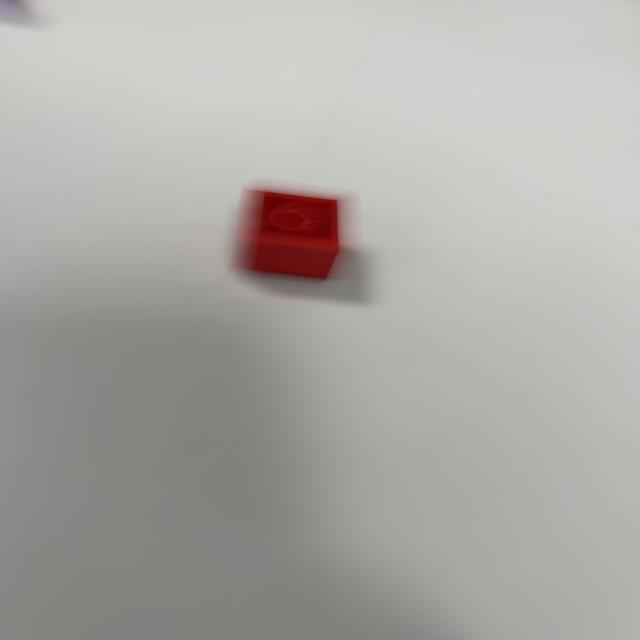C4x2x1: (235, 186, 343, 281)
